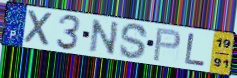3: (56, 13, 82, 52)
L: (183, 32, 208, 68)
N: (88, 18, 121, 57)
P: (151, 28, 183, 63)
S: (118, 22, 150, 61)
X: (23, 8, 55, 48)
